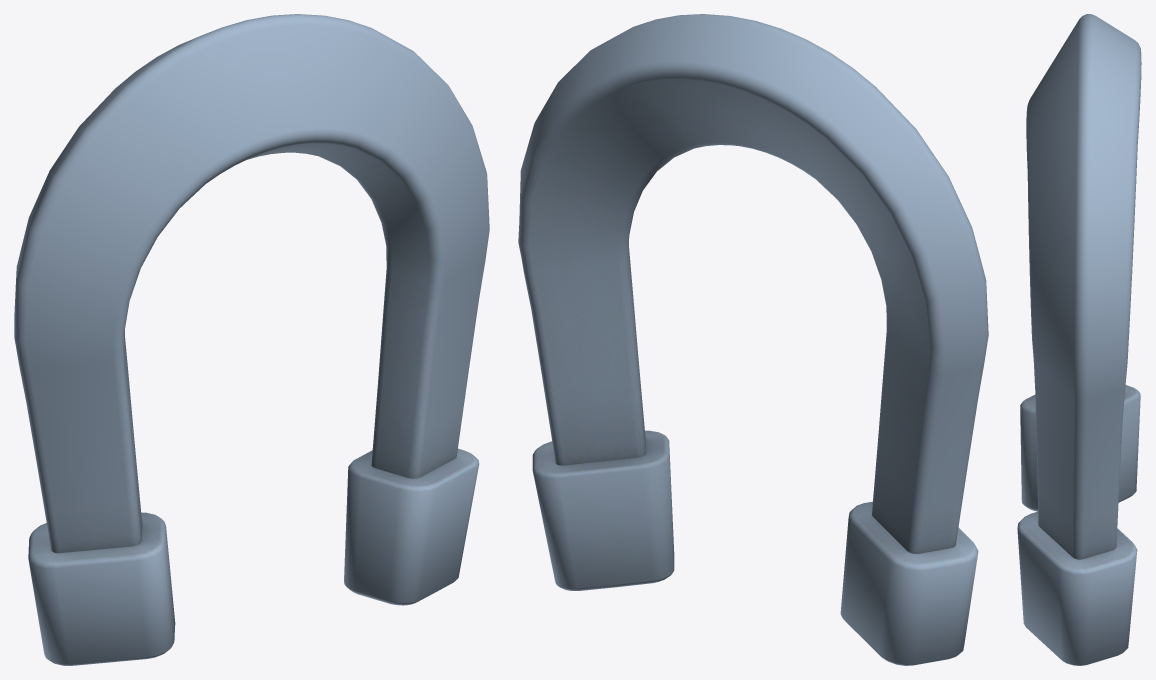
File: MagnetForce.DAE
3 views of the same model, side by side, from view 1: azimuth 30°, elevation 25°; view 2: azimuth 150°, elevation 25°; view 3: azimuth 270°, elevation 25° (orthographic). The views are drawn at different scales.
Visible parts, largest first — view 1: magnet_PIVOT; view 2: magnet_PIVOT; view 3: magnet_PIVOT.
Boxes of the visible parts, x1=… form: magnet_PIVOT: x1=14, y1=14, x2=489, y2=665; magnet_PIVOT: x1=518, y1=14, x2=988, y2=665; magnet_PIVOT: x1=1017, y1=14, x2=1141, y2=665.
Bounding box in the file's own units: 72 × 18.16 × 87.91.
1 material, 1 textured.
